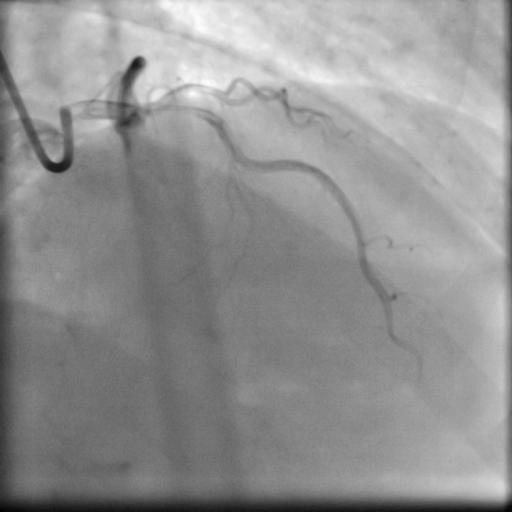Stenosis: (155, 97, 203, 121)
